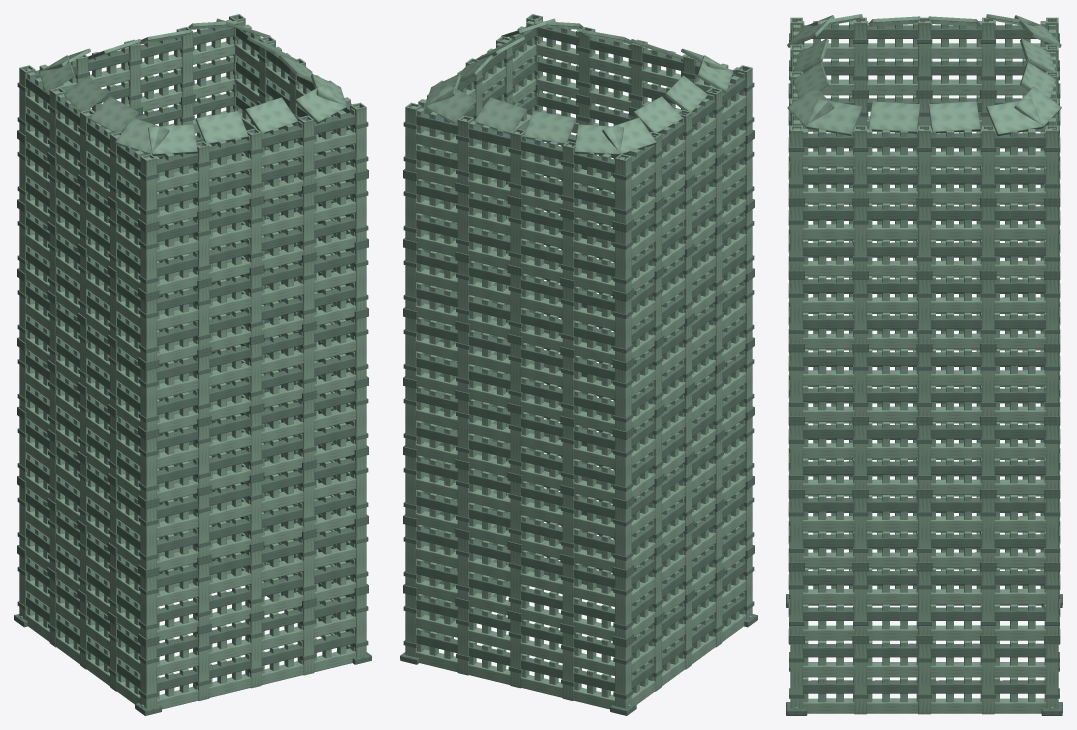
3 views of the same model, side by side, from view 1: azimuth 30°, elevation 25°; view 2: azimuth 150°, elevation 25°; view 3: azimuth 270°, elevation 25° (orthographic). The views are drawn at different scales.
Visible parts, largest first — view 1: Crown alloy petal 0-1, Crown alloy petal 0-0, Crown alloy petal 0-2, Crown alloy petal 3-3, Crown alloy petal 3-2, Crown alloy petal 0-3, Tier 7 side 0 post 0, Tier 0 side 0 post 0, Tier 3 side 0 post 0, Tier 6 side 0 post 0, Tier 2 side 0 post 0, Tier 4 side 0 post 0 (+74 smaller); view 2: Crown alloy petal 2-2, Crown alloy petal 2-3, Crown alloy petal 2-1, Crown alloy petal 3-0, Crown alloy petal 3-1, Crown alloy petal 2-0, Tier 7 side 3 post 0, Tier 0 side 3 post 0, Tier 3 side 3 post 0, Tier 2 side 3 post 0, Tier 1 side 3 post 0, Tier 5 side 3 post 0 (+74 smaller); view 3: Crown alloy petal 1-1, Crown alloy petal 1-2, Crown alloy petal 1-3, Crown alloy petal 1-0, Crown alloy petal 0-3, Crown alloy petal 2-0, Tier 7 side 1 post 2, Tier 7 side 1 post 0, Tier 7 side 1 post 1, Tier 7 side 1 post 3, Tier 7 side 2 post 0, Tier 0 side 1 post 1 (+182 smaller).
Boxes of the visible parts, x1,y1,x2,y2 form: Crown alloy petal 0-1: (195,111,248,144); Crown alloy petal 0-0: (148,124,197,155); Crown alloy petal 0-2: (245,97,298,133); Crown alloy petal 3-3: (115,117,169,154); Crown alloy petal 3-2: (89,96,138,133); Crown alloy petal 0-3: (295,84,346,123); Tier 7 side 0 post 0: (140,154,156,223); Tier 0 side 0 post 0: (140,644,156,708); Tier 3 side 0 post 0: (140,436,156,500); Tier 6 side 0 post 0: (140,229,156,292); Tier 2 side 0 post 0: (140,505,156,569); Tier 4 side 0 post 0: (140,367,156,431); Crown alloy petal 2-2: (523,111,576,144); Crown alloy petal 2-3: (574,124,623,155); Crown alloy petal 2-1: (474,97,526,134); Crown alloy petal 3-0: (602,117,656,154); Crown alloy petal 3-1: (633,96,682,132); Crown alloy petal 2-0: (425,84,476,123); Tier 7 side 3 post 0: (615,154,631,223); Tier 0 side 3 post 0: (615,644,631,708); Tier 3 side 3 post 0: (615,436,631,500); Tier 2 side 3 post 0: (615,505,631,569); Tier 1 side 3 post 0: (615,574,631,638); Tier 5 side 3 post 0: (615,298,631,362); Crown alloy petal 1-1: (868,101,920,133); Crown alloy petal 1-2: (928,101,980,133); Crown alloy petal 1-3: (986,99,1042,135); Crown alloy petal 1-0: (806,99,862,135); Crown alloy petal 0-3: (787,87,834,128); Crown alloy petal 2-0: (1014,87,1061,128); Tier 7 side 1 post 2: (918,125,930,197); Tier 7 side 1 post 0: (790,125,802,197); Tier 7 side 1 post 1: (854,125,866,197); Tier 7 side 1 post 3: (982,125,994,197); Tier 7 side 2 post 0: (1046,125,1058,197); Tier 0 side 1 post 1: (854,644,866,714).
Bounding box in the file's own units: 1.95 × 4.64 × 1.95.
Materials: 2 (2 with a texture image).
